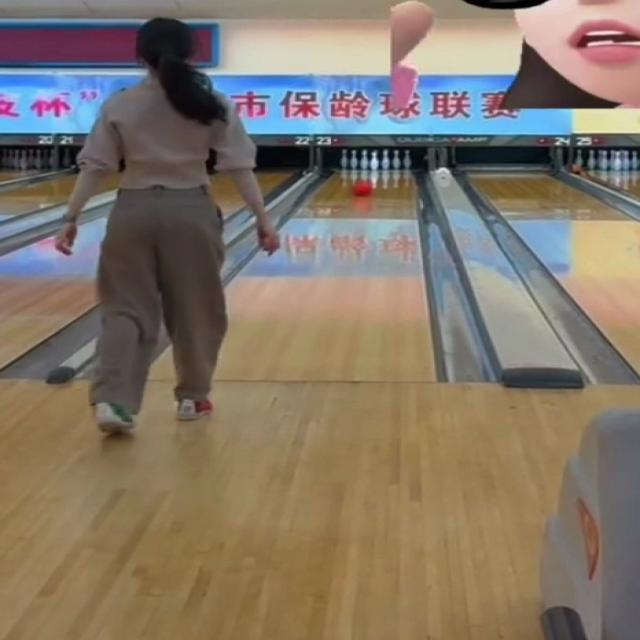alley: (218, 177, 434, 380)
balls: (354, 182, 371, 196)
bottle: (341, 148, 412, 171)
